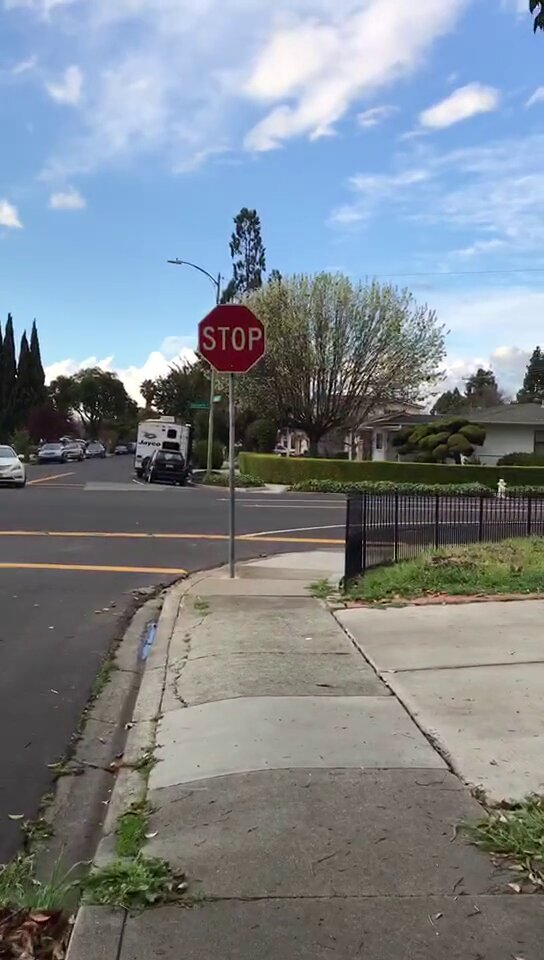stop_sign: (196, 306, 266, 374)
